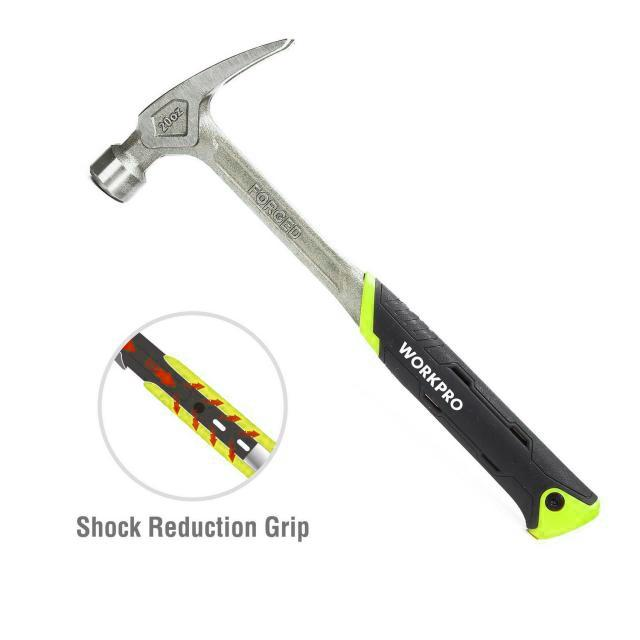hammer: (84, 36, 608, 546)
